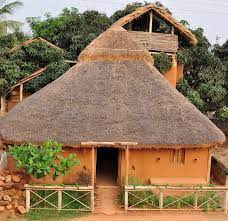Mud House: (3, 26, 224, 213)
